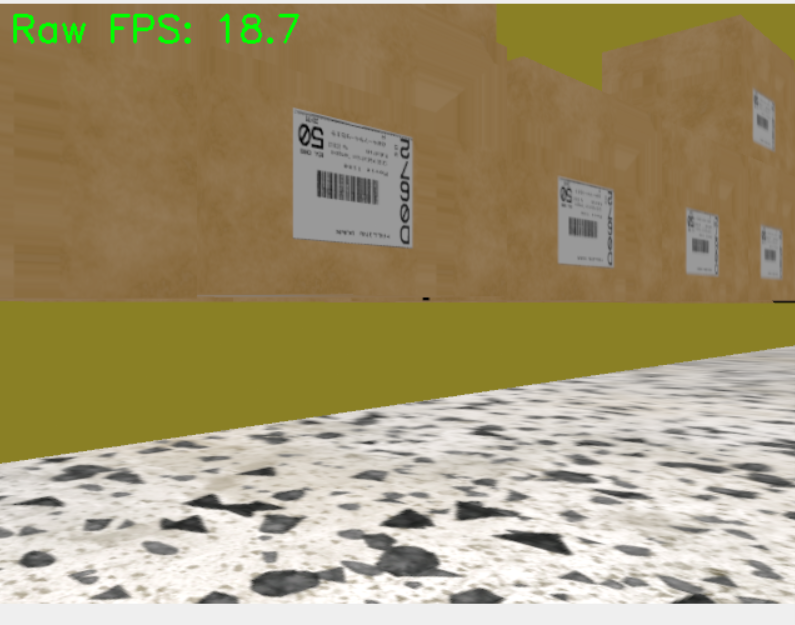barcode: (291, 107, 415, 249), (557, 176, 615, 268), (686, 209, 720, 277), (752, 87, 775, 150), (759, 225, 783, 281)
